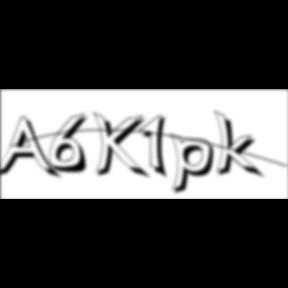1: (138, 114, 173, 182)
6: (50, 112, 94, 176)
A: (0, 116, 64, 182)
K: (94, 110, 152, 182)
k: (214, 108, 266, 181)
p: (171, 132, 221, 198)
